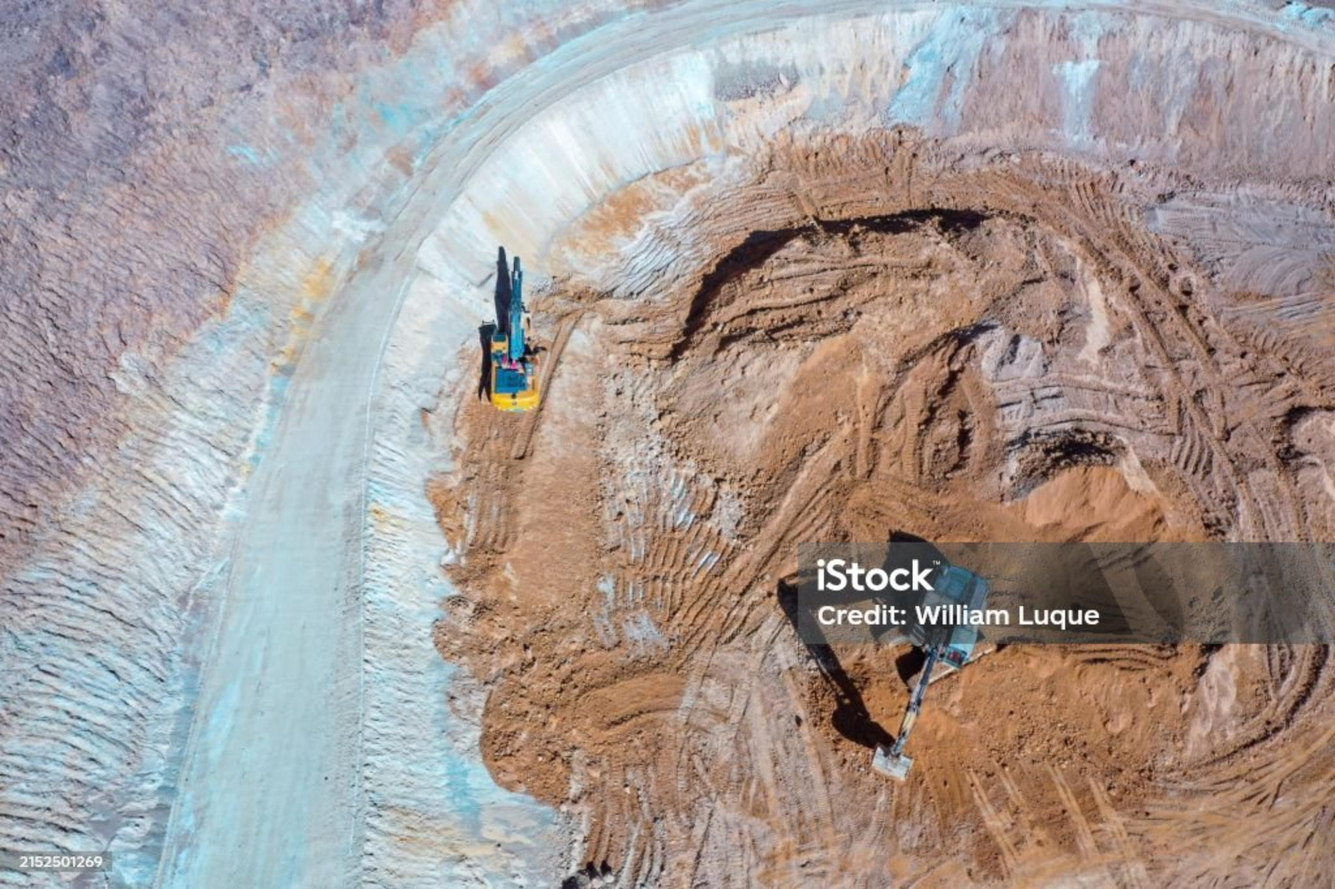benches: (163, 82, 551, 888), (545, 3, 803, 95)
excavator: (897, 543, 1004, 808), (465, 267, 556, 426)
wall: (336, 5, 937, 888), (887, 8, 1334, 179)
